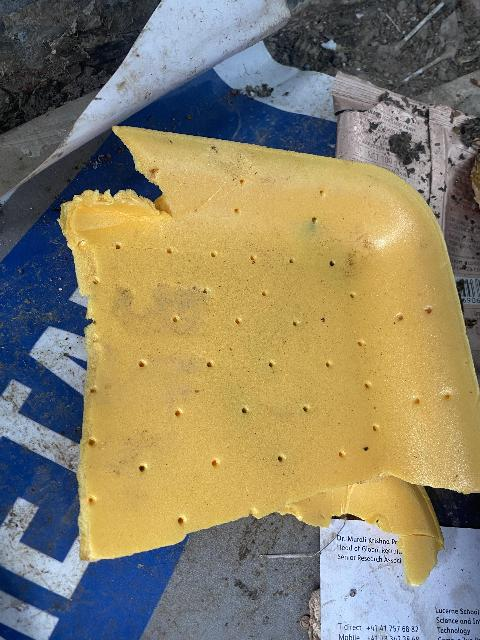Plastik: (65, 124, 480, 581)
